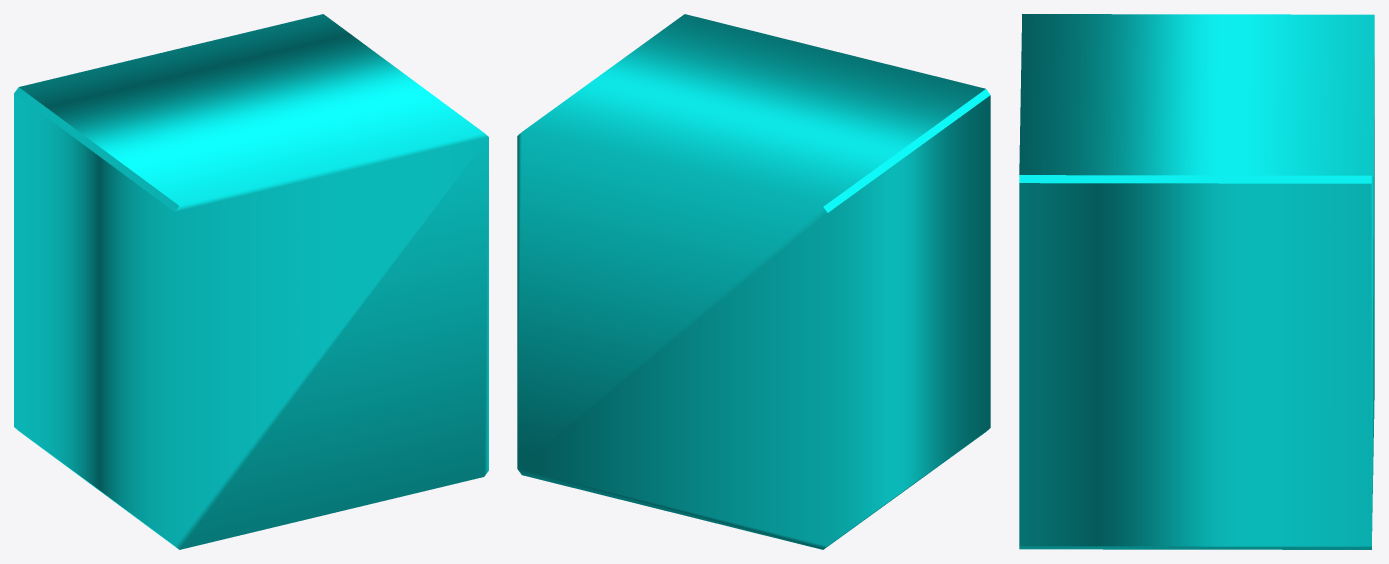
The model's file is Cara_Cuadrado_Grande.fbx.
3 renders of one model, left to right at view 1: azimuth 30°, elevation 25°; view 2: azimuth 150°, elevation 25°; view 3: azimuth 270°, elevation 25°, orthographic. The views are drawn at different scales.
Parts seen in each view (by area): view 1: Cara_Cuadrado_Grande; view 2: Cara_Cuadrado_Grande; view 3: Cara_Cuadrado_Grande.
Boxes of the visible parts, bbox=[...] form: Cara_Cuadrado_Grande: bbox=[14, 14, 488, 549]; Cara_Cuadrado_Grande: bbox=[517, 14, 990, 549]; Cara_Cuadrado_Grande: bbox=[1019, 14, 1374, 549].
Size of the model in its own units: 119 by 125 by 108.
